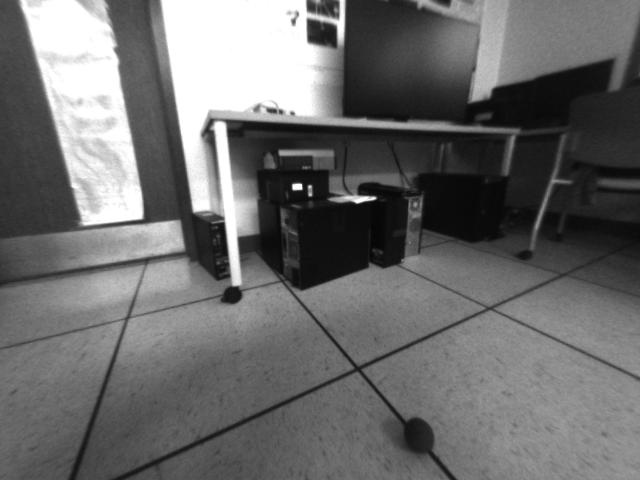dogtoy: (395, 407, 446, 459)
